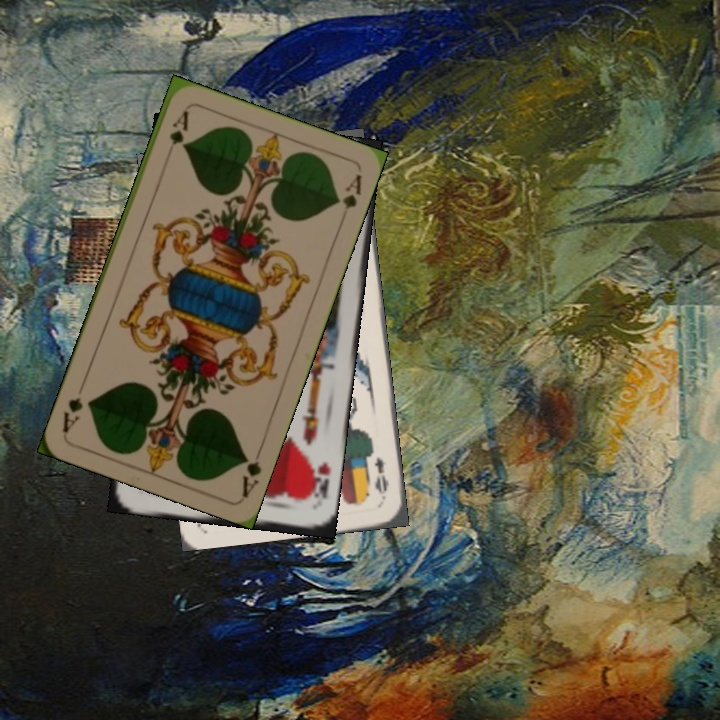EO: (370, 453, 391, 496)
GA: (237, 441, 266, 500), (165, 106, 191, 148)
HK: (303, 457, 334, 503)
